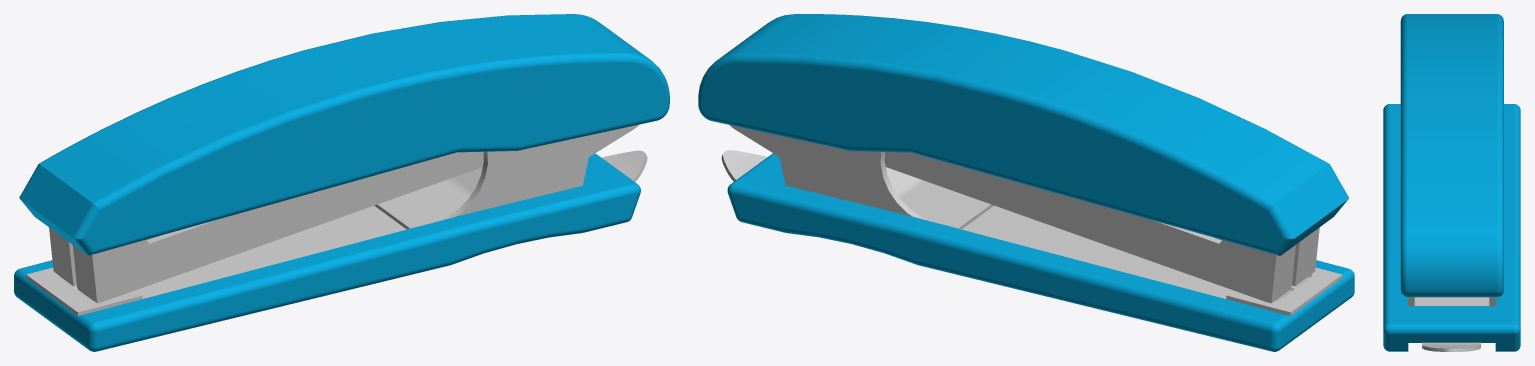
File: 228_ホッチキスステープラー閉.glb
3 views of the same model, side by side, from view 1: azimuth 30°, elevation 25°; view 2: azimuth 150°, elevation 25°; view 3: azimuth 270°, elevation 25° (orthographic). The views are drawn at different scales.
Parts seen in each view (by area): view 1: Body23, Body11; view 2: Body23, Body11; view 3: Body23, Body11.
Part boxes in pixels (box(x1,y1,x2,y2)): Body23: box(19, 14, 669, 303); Body11: box(14, 124, 647, 351); Body23: box(698, 14, 1348, 303); Body11: box(721, 125, 1354, 351); Body23: box(1400, 14, 1503, 297); Body11: box(1383, 104, 1520, 351).
Bounding box in the file's own units: 0.0862 × 0.0259 × 0.02.
